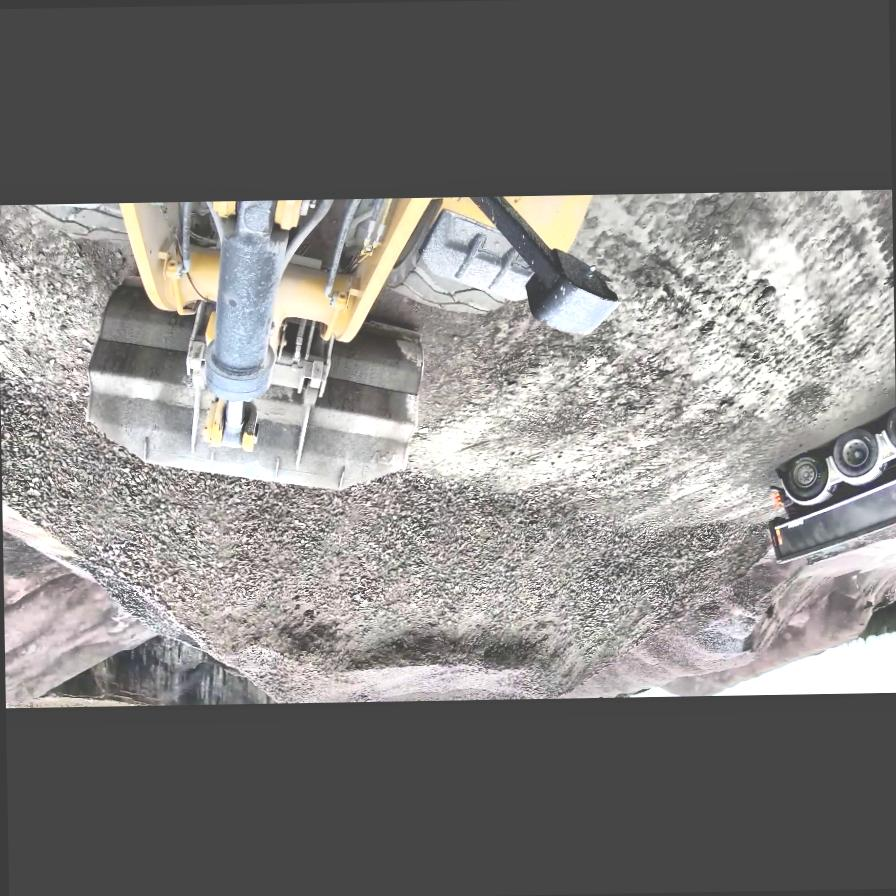anchor: (201, 396, 256, 452)
pile of gravel: (0, 323, 754, 708), (0, 486, 159, 702), (658, 556, 896, 696)
